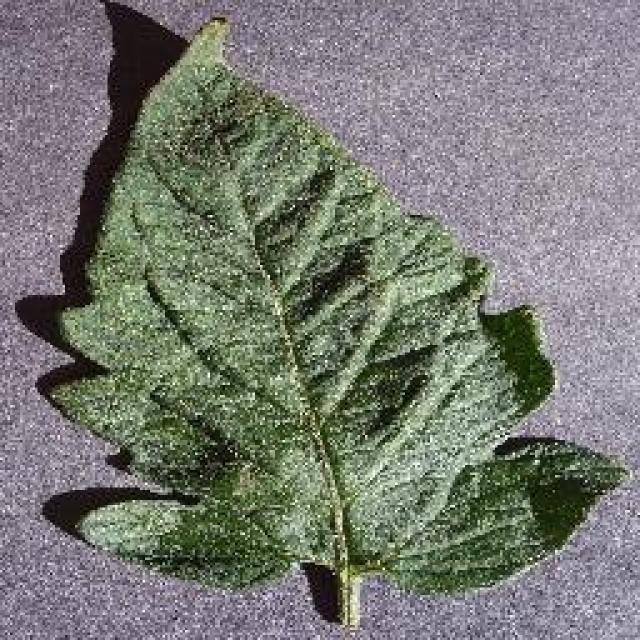Tomato healthy leaf: (56, 18, 626, 602)
